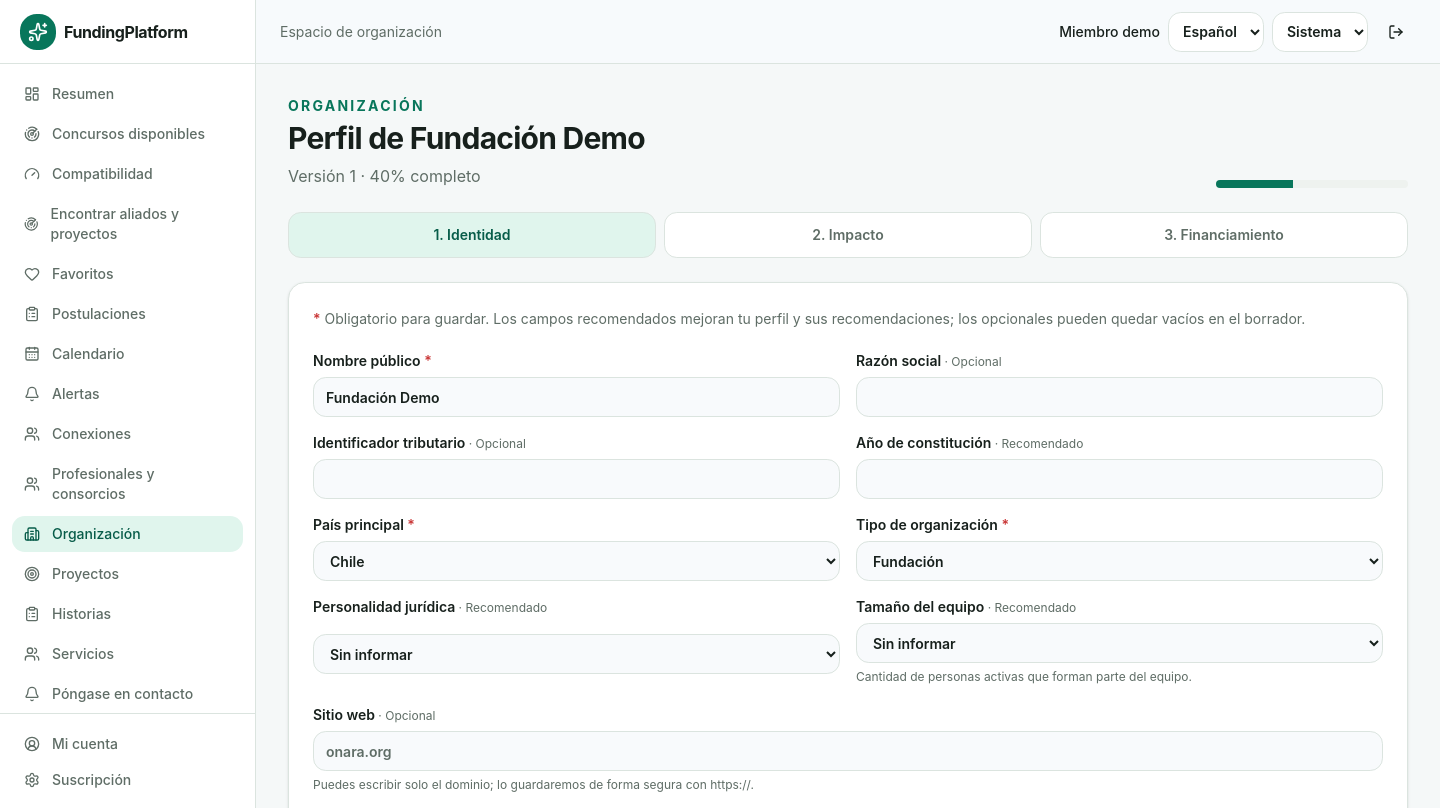
it: perfil de organización › traduce errores visibles de rangos financieros conservando el paso y sin guardar
expect the heading "Perfil de Fundación Demo" is shown: met, box [288,120,645,156]
Step 1. Click the button "3. Financiamiento" → (1224, 235), box [1040,212,1408,258]
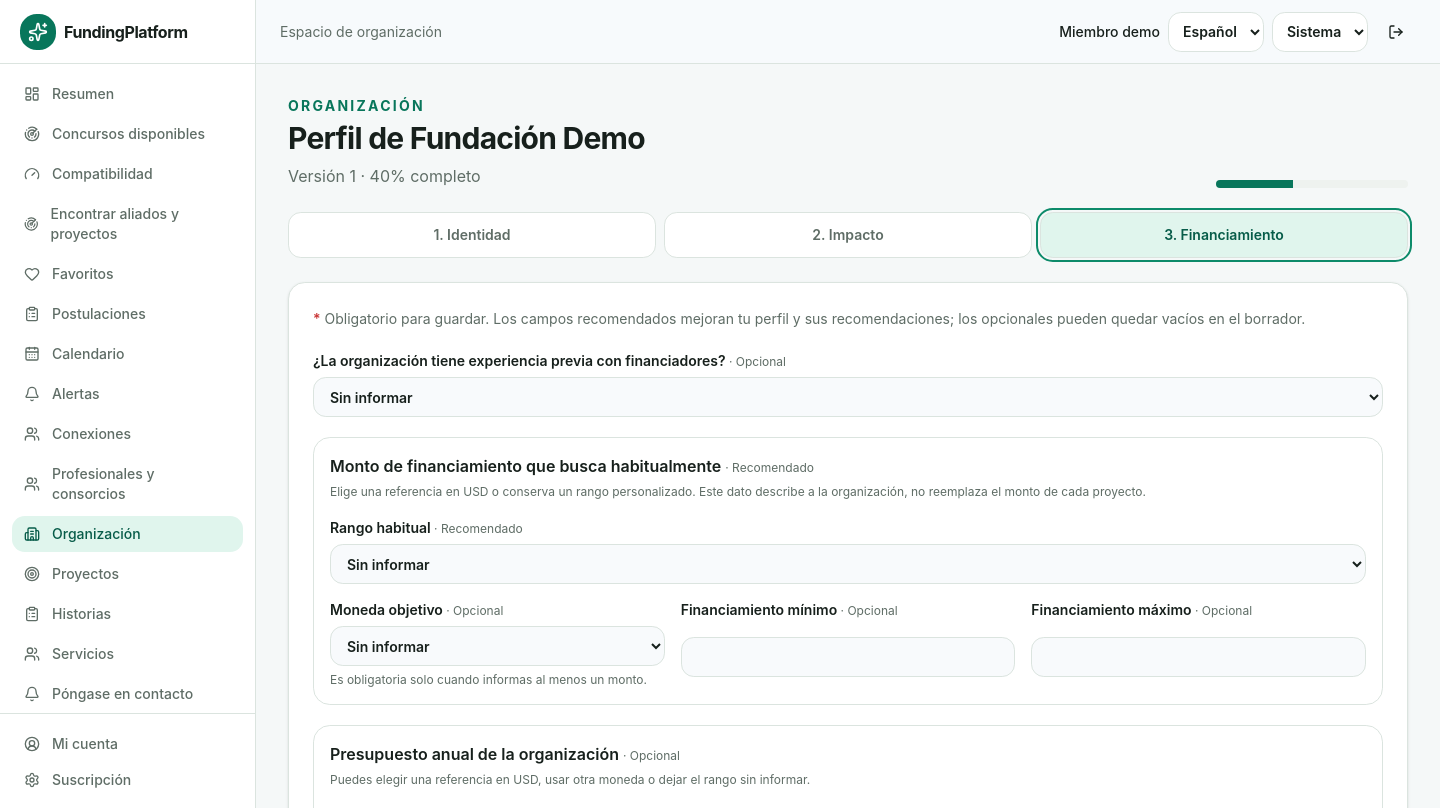
Step 2. Type "100" into the number field labelled "Financiamiento mínimo · Opcional" → (848, 657), box [681,637,1015,677]
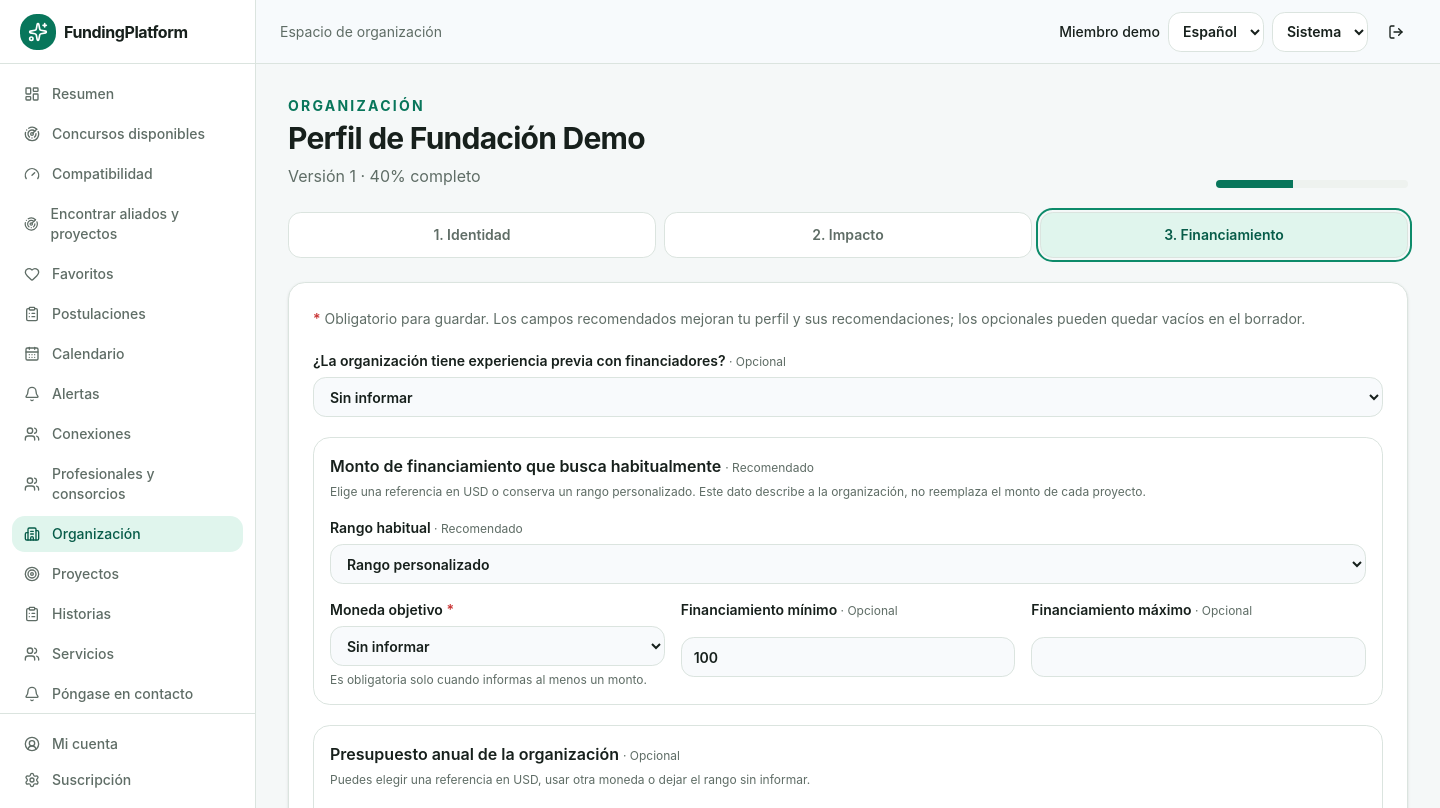
Step 3. Type "50" into the number field labelled "Financiamiento máximo · Opcional" → (1199, 657), box [1031,637,1366,677]
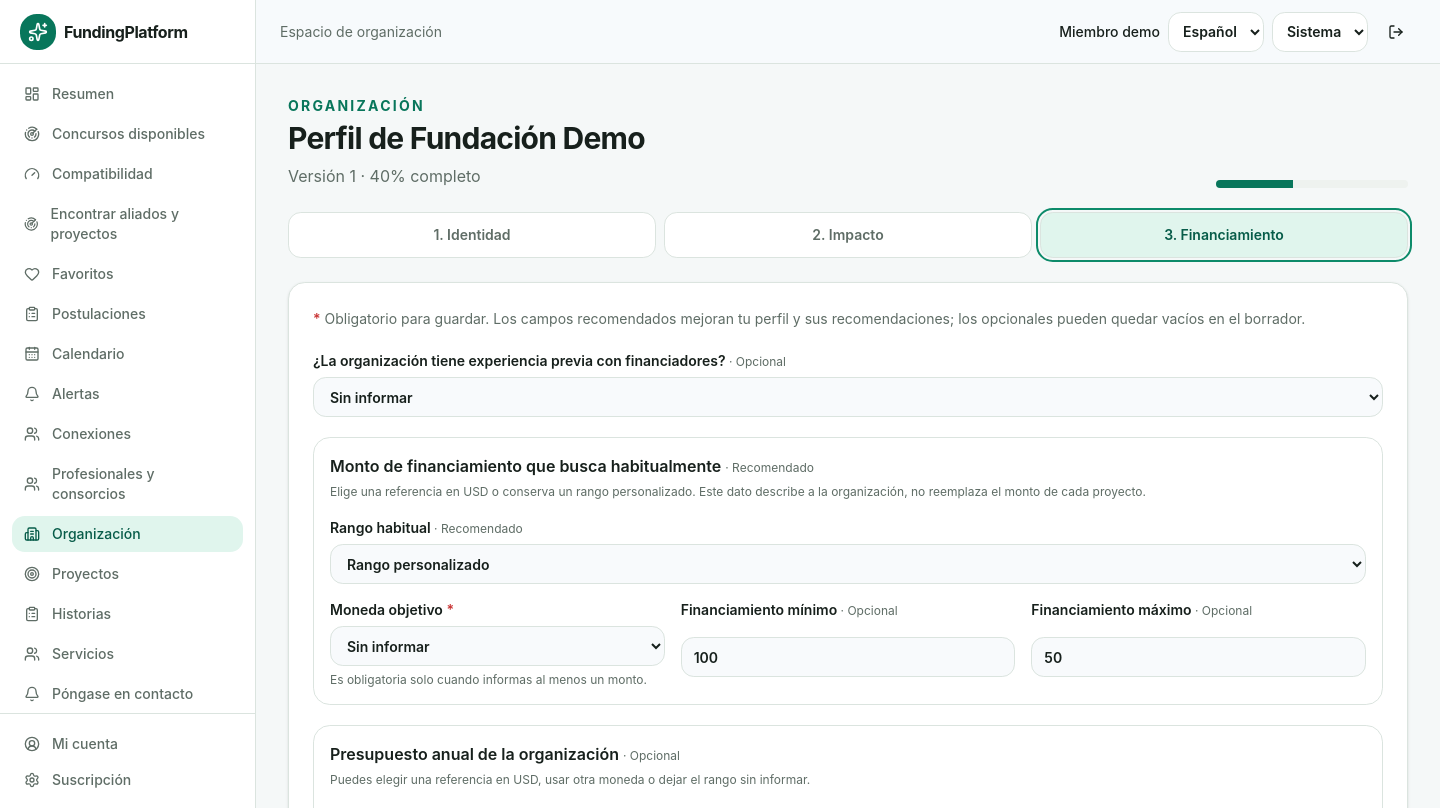
Step 4. Select "USD · Dólar estadounidense" in the dropdown labelled "Moneda objetivo" → (497, 646), box [330,626,665,666]
(page scrolled)
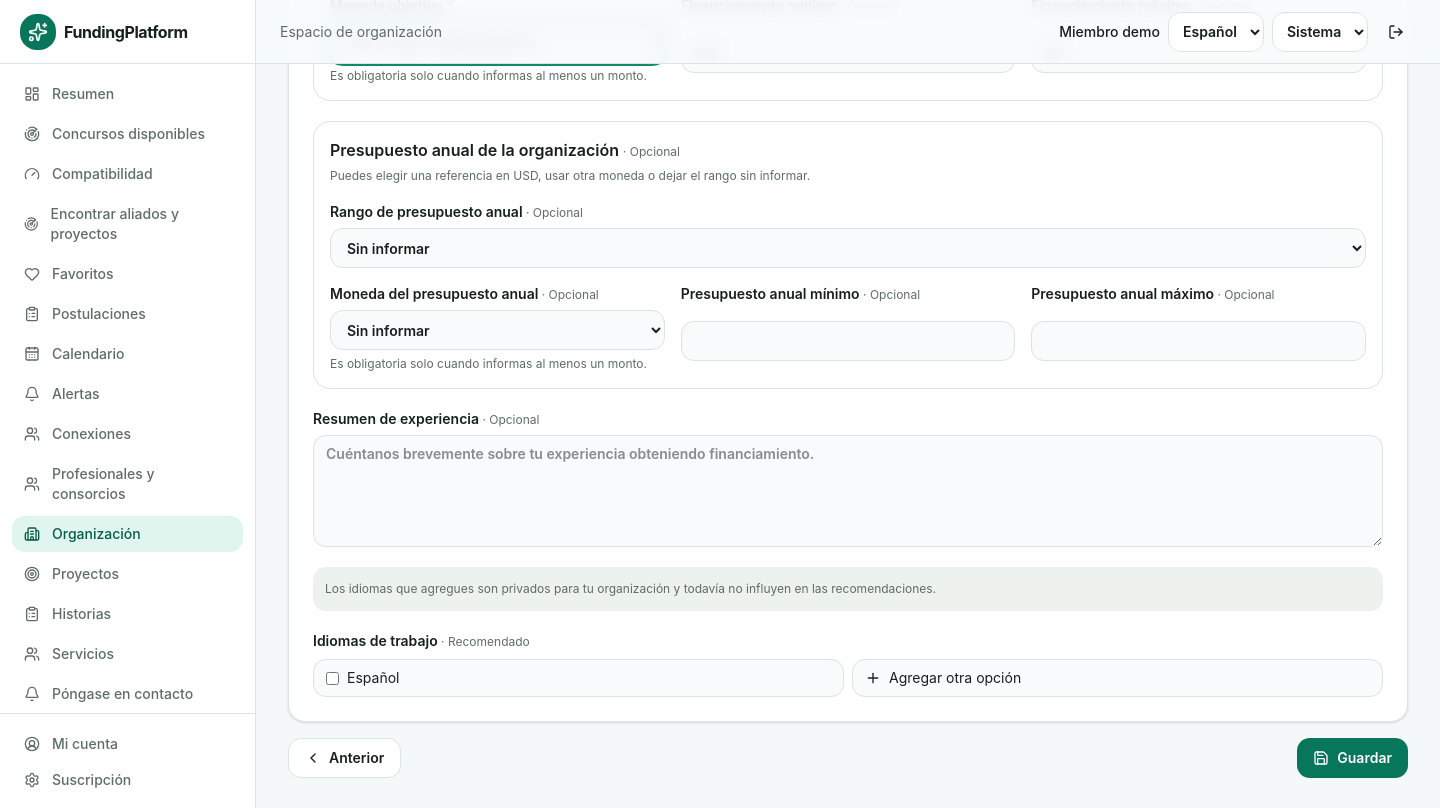
Step 5. Click the button "Guardar" → (1353, 758), box [1297,738,1408,778]
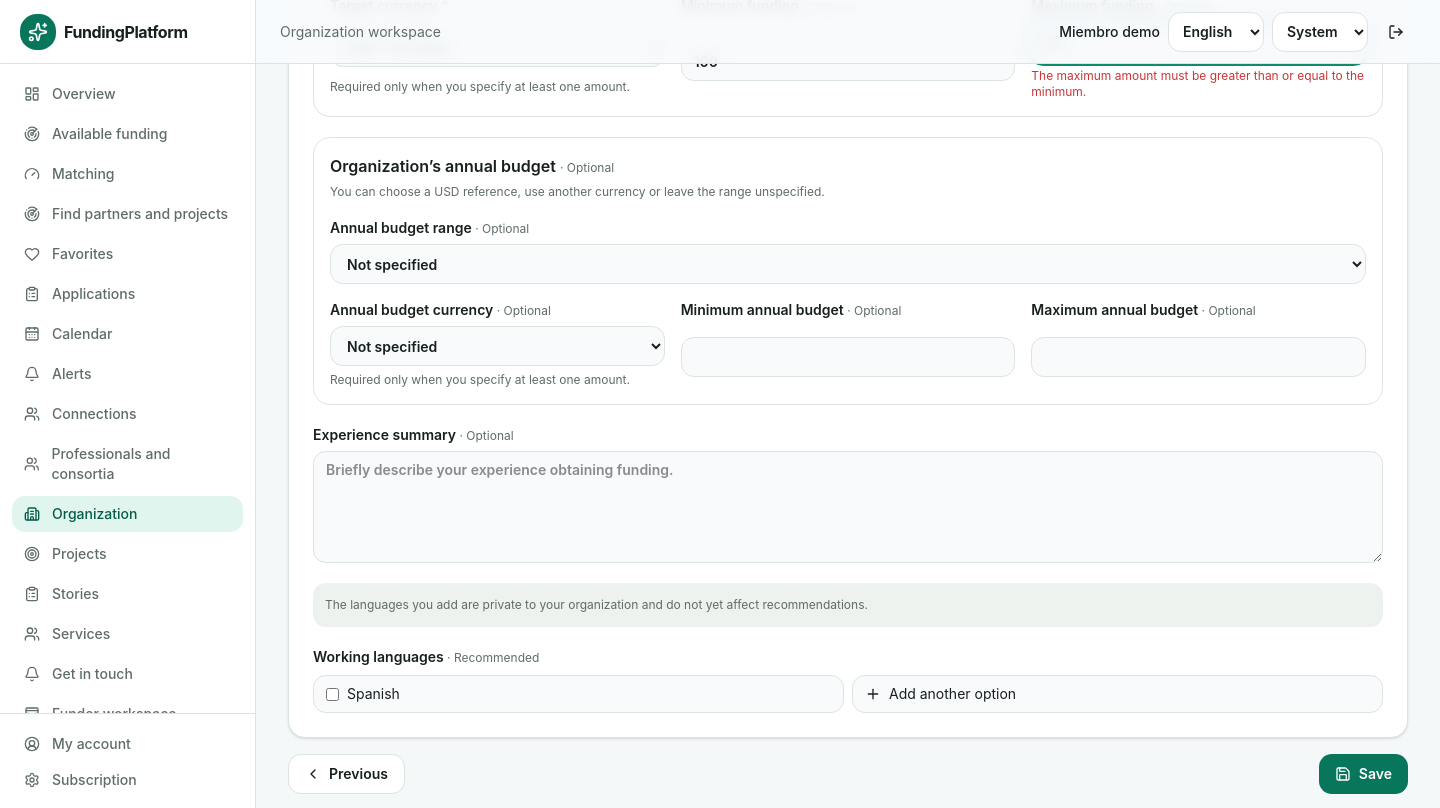
expect the text "The maximum amount must be greater than or equal to the minimum." is shown: met, box [1031,68,1366,100]
